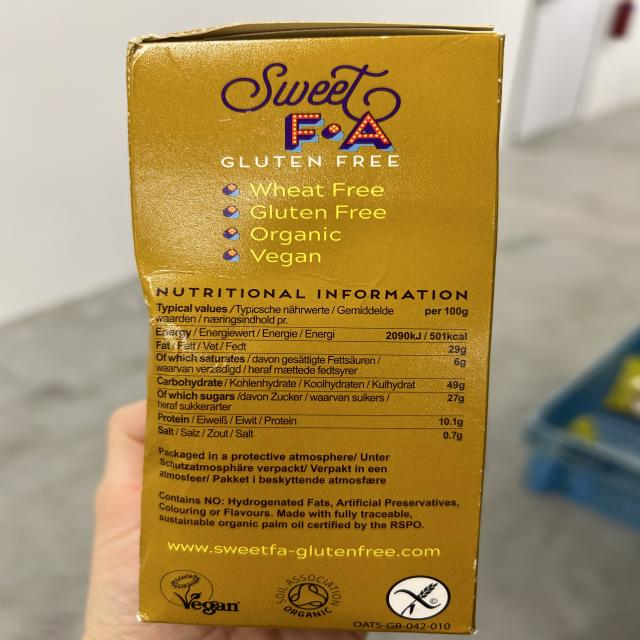object_name: (144, 41, 470, 630)
